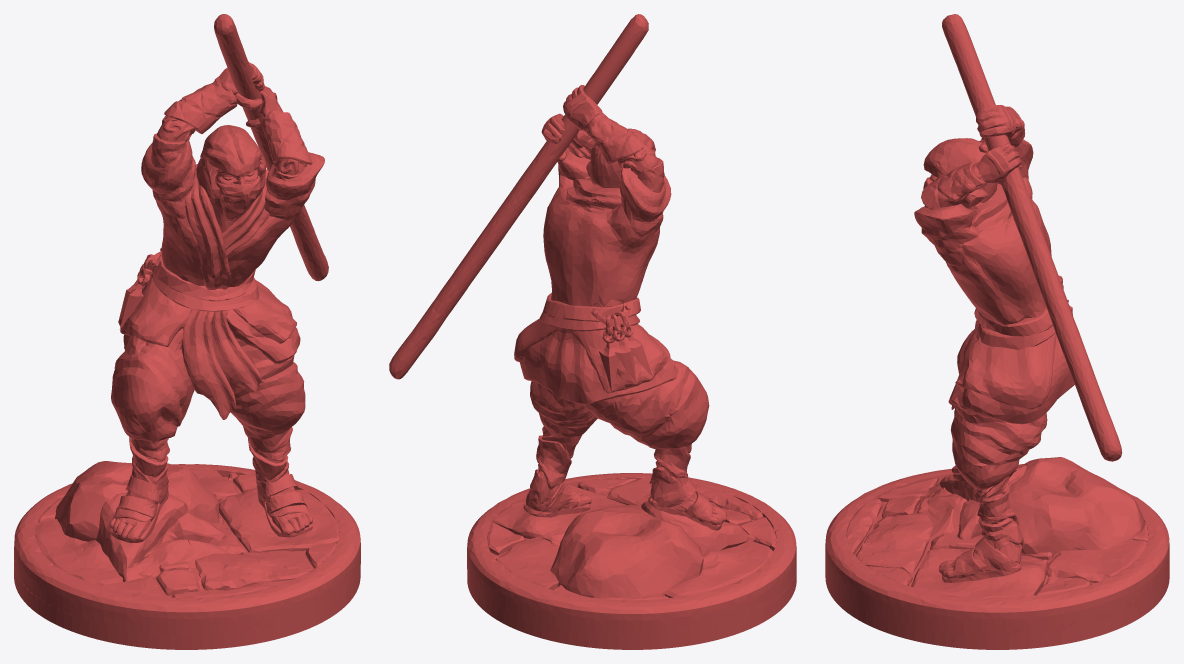
Rendered from monk.glb.
3 views of the same model, side by side, from view 1: azimuth 30°, elevation 25°; view 2: azimuth 150°, elevation 25°; view 3: azimuth 270°, elevation 25° (orthographic). The views are drawn at different scales.
Visible parts, largest first — view 1: monk; view 2: monk; view 3: monk.
Boxes of the visible parts, x1,y1,x2,y2 form: monk: (14,14,360,649); monk: (389,14,796,649); monk: (825,14,1169,649).
Size of the model in its own units: 34.71 by 54.99 by 30.07.
